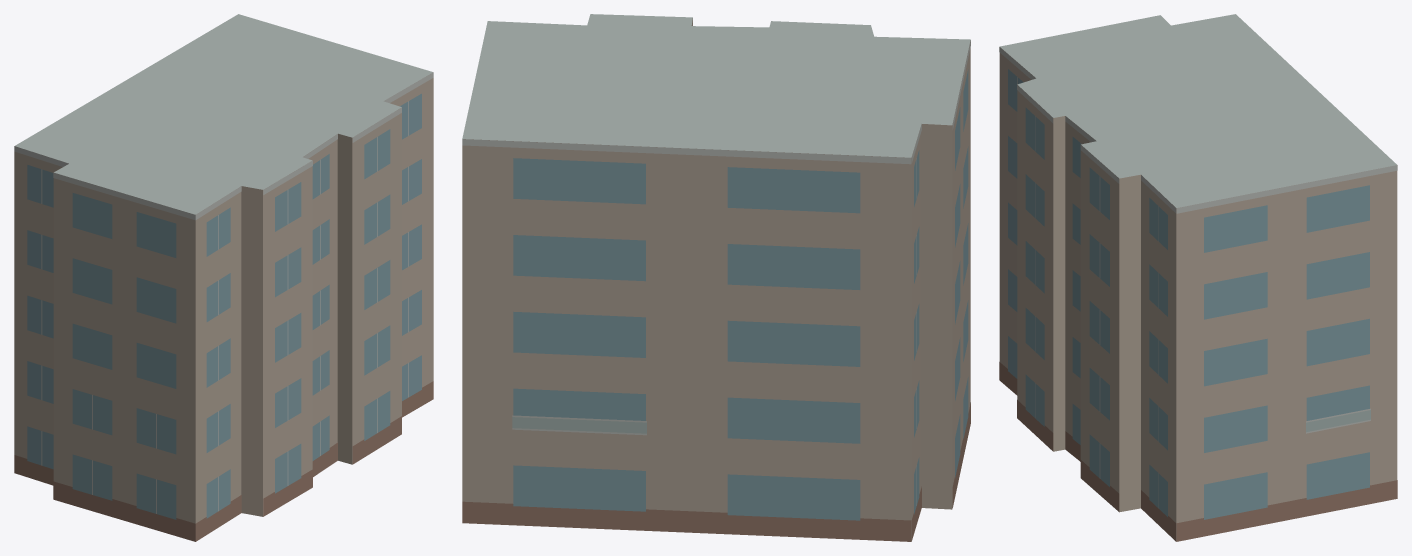
File: survey-upis-32743412.glb
3 views of the same model, side by side, from view 1: azimuth 30°, elevation 25°; view 2: azimuth 150°, elevation 25°; view 3: azimuth 270°, elevation 25° (orthographic). The views are drawn at different scales.
Parts seen in each view (by area): view 1: survey-upis-32743412.tmp; view 2: survey-upis-32743412.tmp; view 3: survey-upis-32743412.tmp.
Part boxes in pixels (bbox=[...]): survey-upis-32743412.tmp: bbox=[14, 14, 433, 541]; survey-upis-32743412.tmp: bbox=[462, 14, 970, 541]; survey-upis-32743412.tmp: bbox=[999, 14, 1397, 541].
Size of the model in its own units: 17.98 by 14.4 by 15.58.
